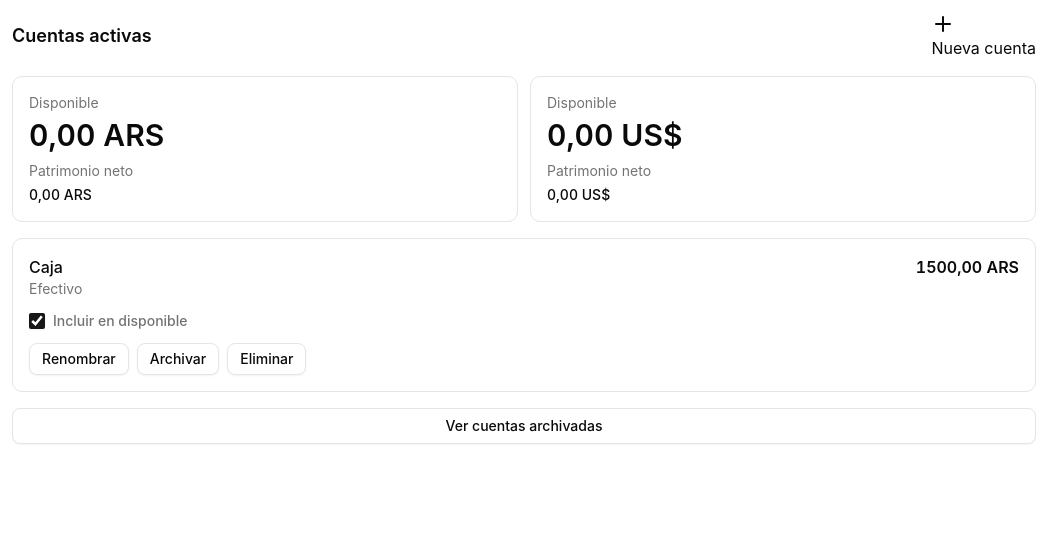
Scenario: AccountsContainer › keeps the rename open with the duplicate-name message (AC-13)
Click the button "Renombrar". click: [79, 359]
box: x1=29 y1=343 x2=129 y2=375
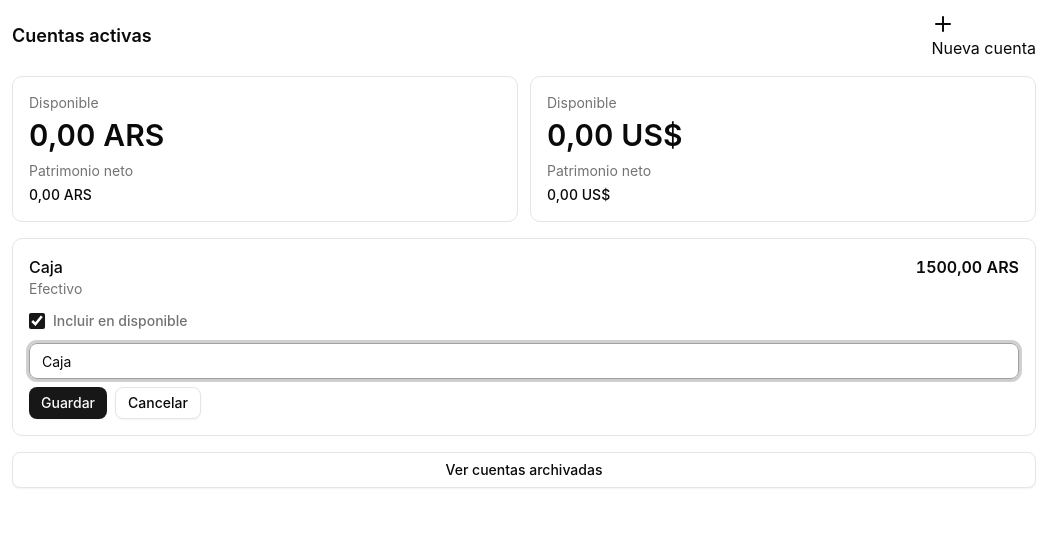
Replace the text in the field named "Nuevo nombre de Caja" with "Banco". click: [524, 361]
box: x1=29 y1=343 x2=1019 y2=379
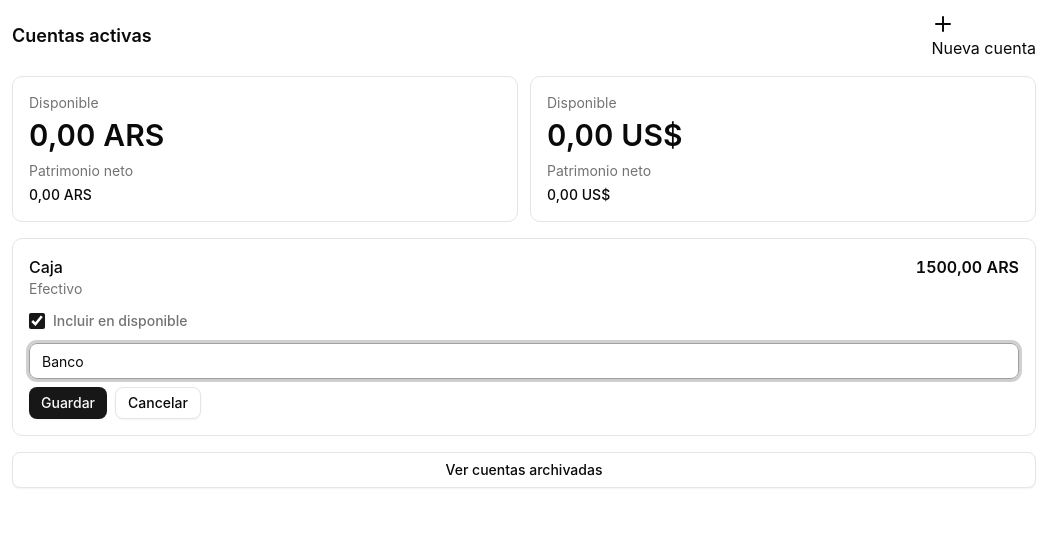
Click the button "Guardar". click: [68, 403]
box: x1=29 y1=387 x2=107 y2=419
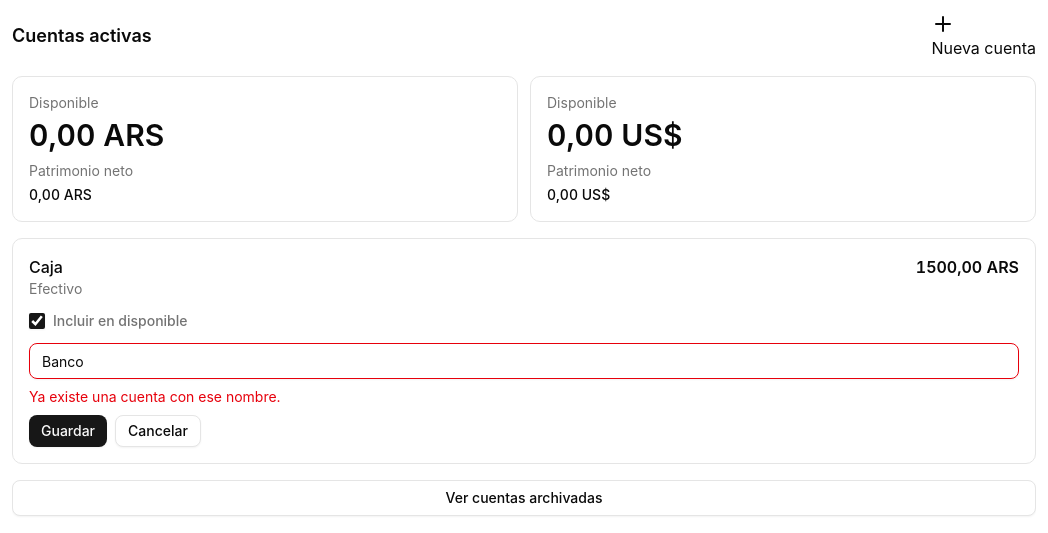
Expected: the text "Ya existe una cuenta con ese nombre." is shown, x1=29 y1=388 x2=281 y2=405
